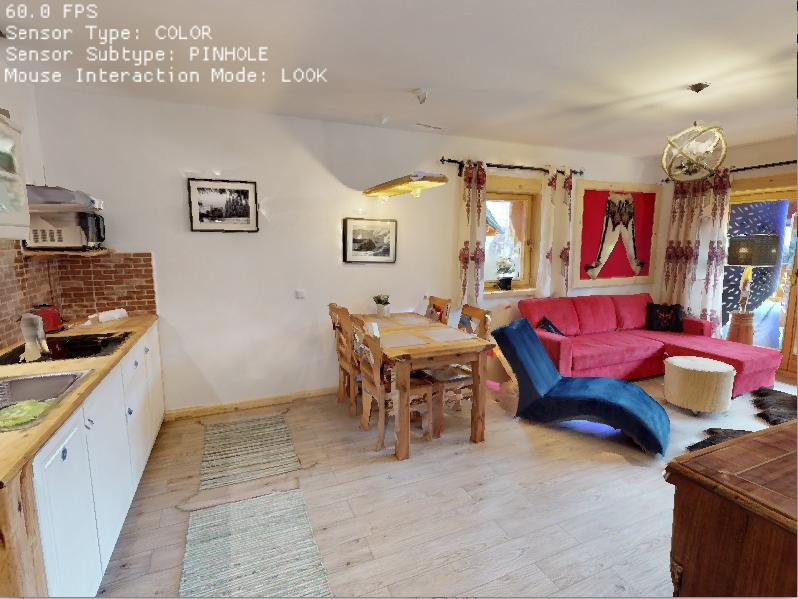chair: (346, 316, 435, 447), (437, 306, 497, 436)
sofa: (502, 286, 786, 400)
table: (334, 307, 499, 461)
